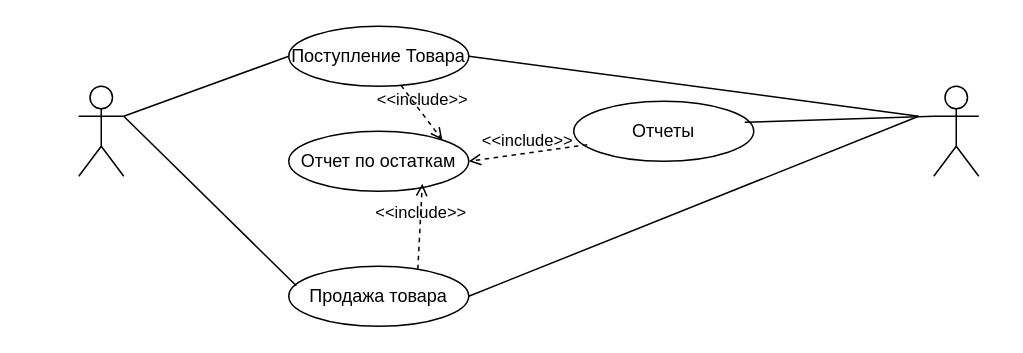
The diagram is 1023 pixels wide and 353 high, and some of its shapes have lost their labels. The shapes that lost their labels are listed below. From the top down, each one's box as (x1, y1, x2, y2) in pixels, then its label:
(77, 85, 124, 176): Сотрудник склада
(932, 85, 979, 176): Бухгалтер
